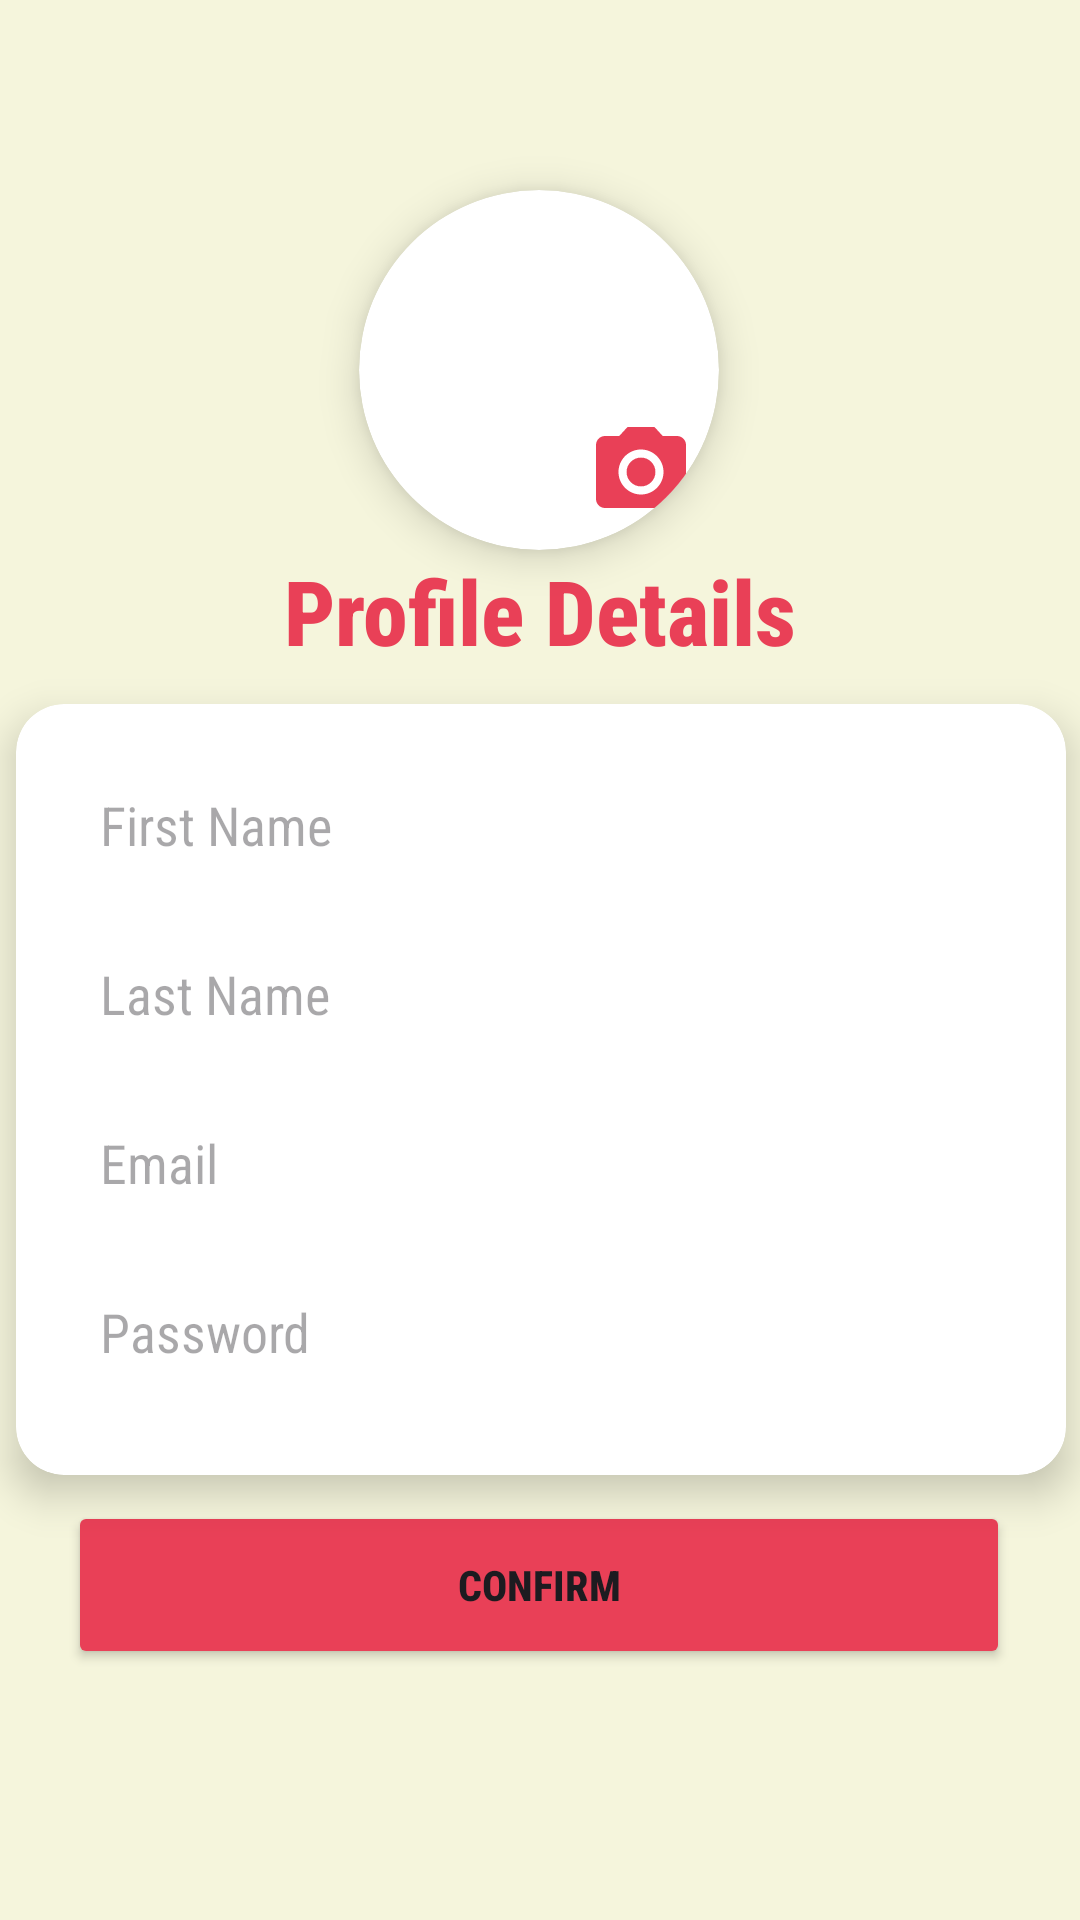

Named icons in this screenshot (1080w x 1920h) and their bounding boxes, [x1=x1, y1=y1, x2=x2, y2=y2]:
Camera Icon: [x1=596, y1=427, x2=695, y2=526]
